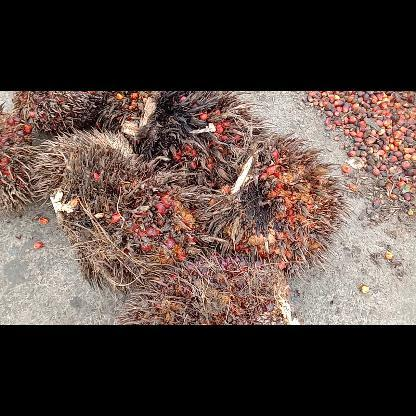Terlalu masak: (52, 146, 226, 292), (211, 132, 353, 274), (122, 90, 262, 186), (118, 252, 294, 324), (34, 127, 132, 198), (12, 91, 110, 133), (0, 108, 33, 217), (100, 91, 148, 131)
